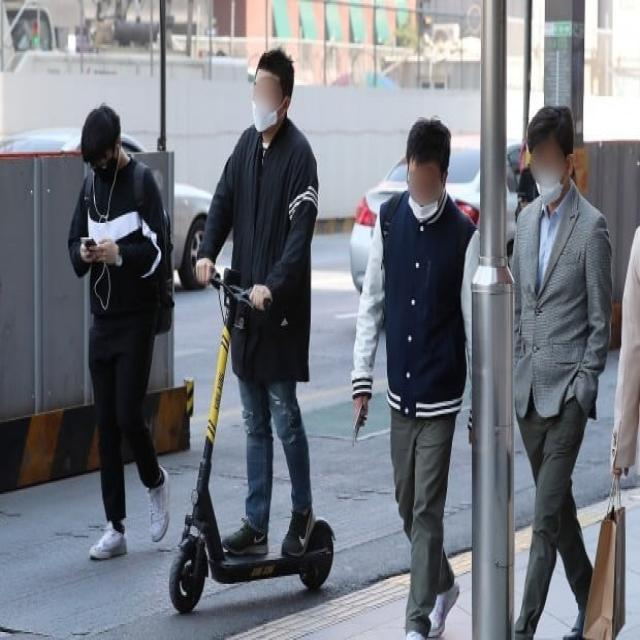non-helmet: (165, 43, 338, 618)
